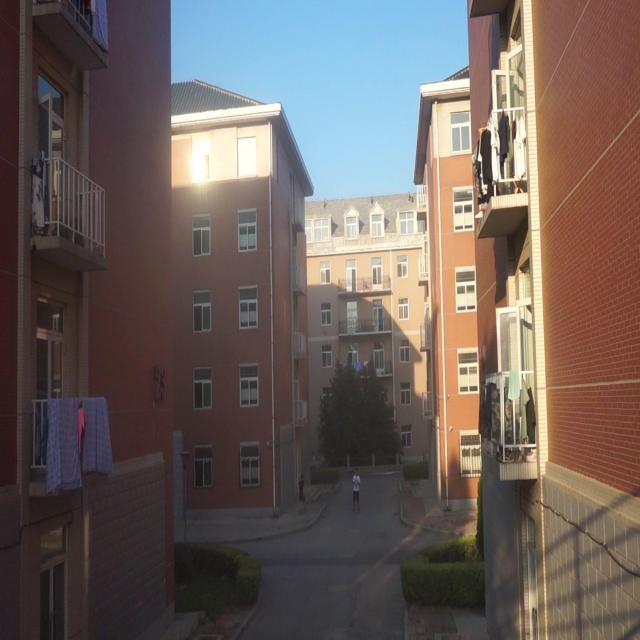UAV: (320, 326, 328, 338)
